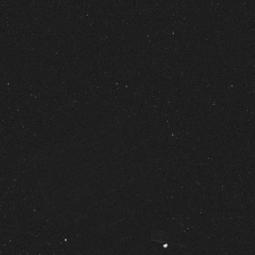proba_2: (67, 199, 210, 255)
